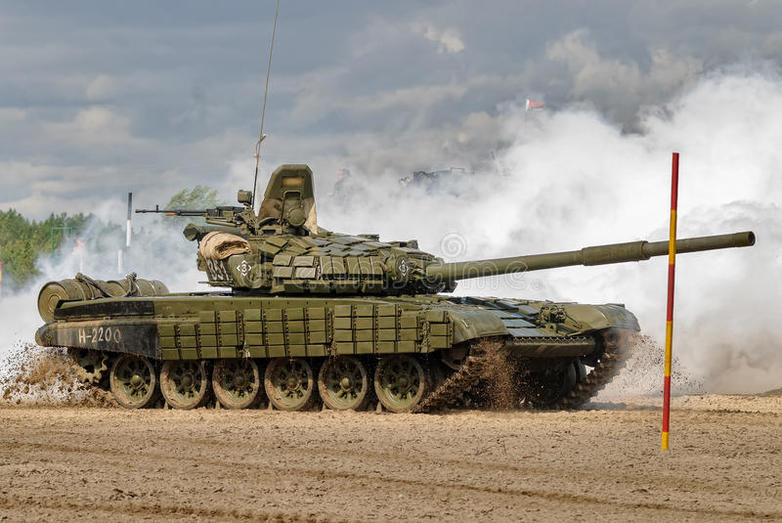t72: (42, 193, 753, 414)
